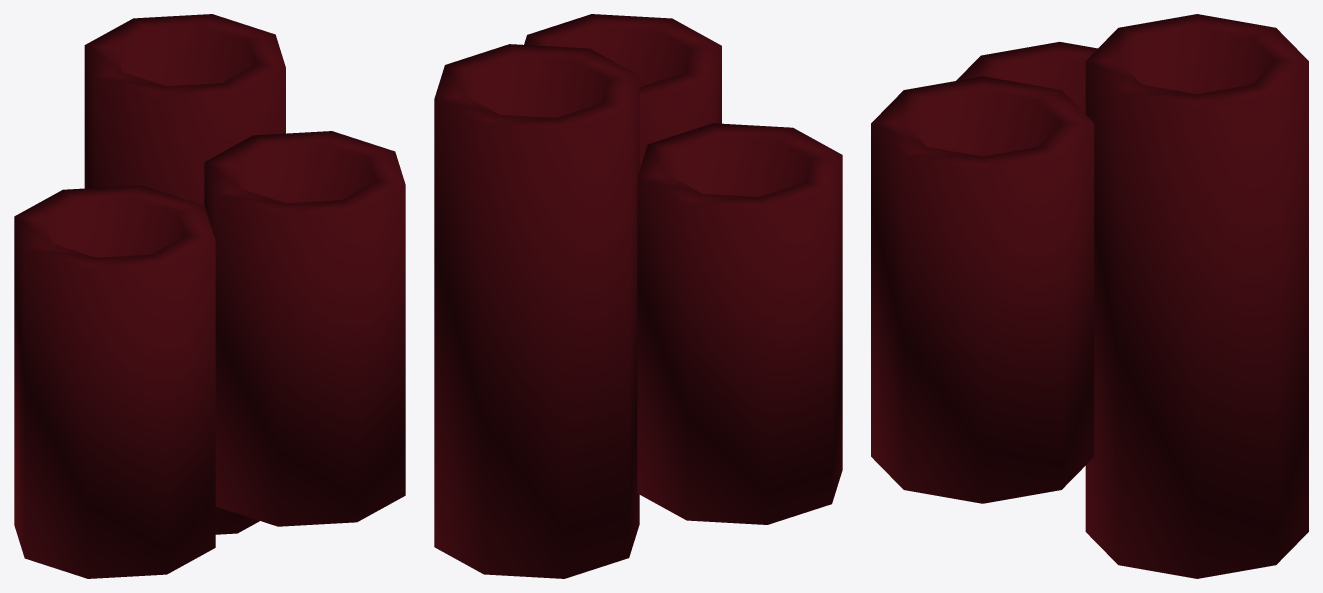
File: TubePlastic.fbx
The picture shows the model from 3 angles, left to right: view 1: azimuth 30°, elevation 25°; view 2: azimuth 150°, elevation 25°; view 3: azimuth 270°, elevation 25°; orthographic projection. The views are drawn at different scales.
Visible parts, largest first — view 1: TubePlastic_LOD0; view 2: TubePlastic_LOD0; view 3: TubePlastic_LOD0.
Part boxes in pixels (left/top/right/bottom): TubePlastic_LOD0: left=14, top=14, right=405, bottom=578; TubePlastic_LOD0: left=434, top=14, right=842, bottom=578; TubePlastic_LOD0: left=871, top=14, right=1308, bottom=578.
Size of what is drawn, in the model's own units: 0.1854 by 0.2324 by 0.196.
